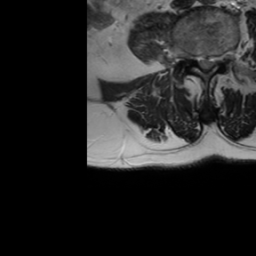CCS_stenosis: (202, 47, 208, 78)
LFS_normal: (215, 46, 224, 68)
LLS_normal: (208, 47, 215, 75)
RFS_stenosis: (187, 44, 194, 69)
RLS_normal: (194, 50, 202, 73)
